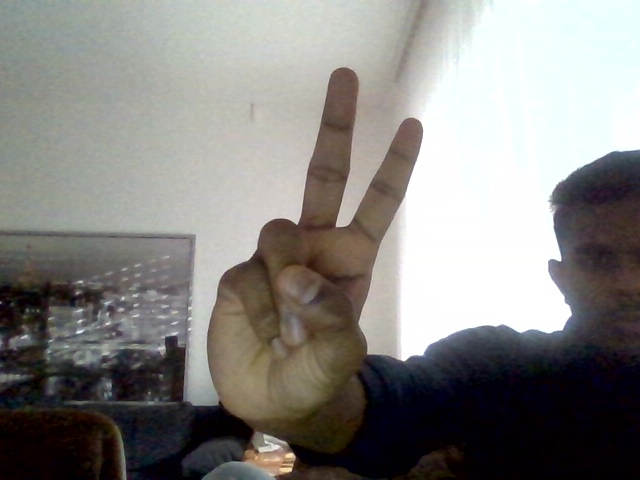livel: (205, 66, 426, 431)
